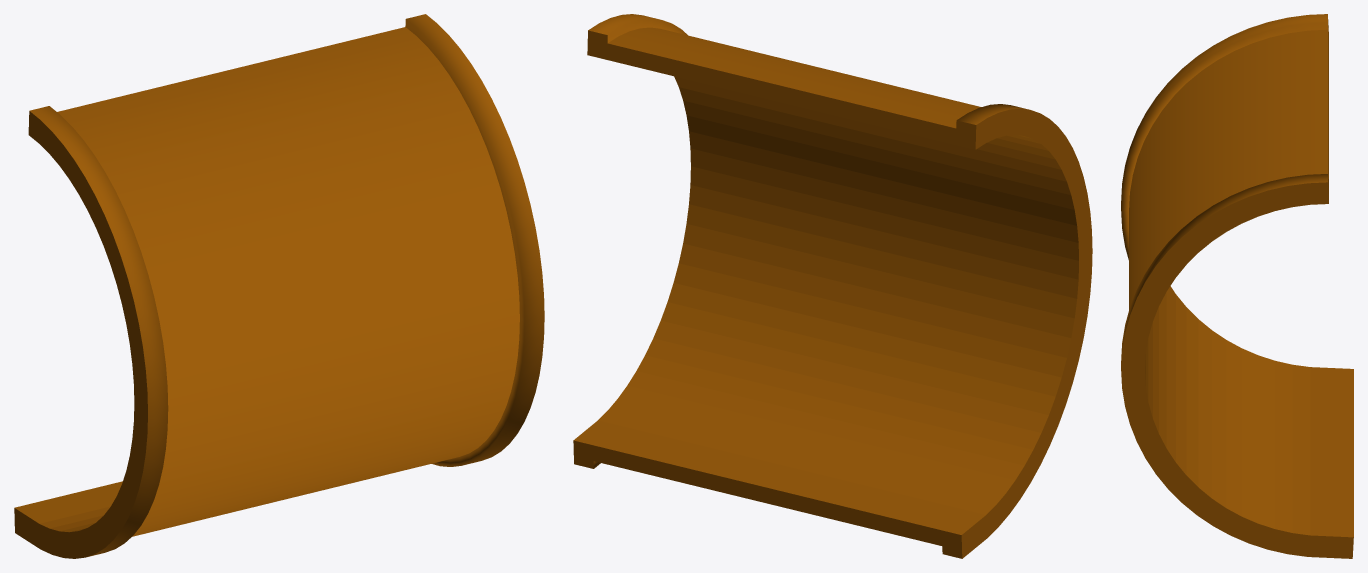
File: pipe_5.glb
3 renders of one model, left to right at view 1: azimuth 30°, elevation 25°; view 2: azimuth 150°, elevation 25°; view 3: azimuth 270°, elevation 25°, orthographic. The views are drawn at different scales.
Parts seen in each view (by area): view 1: Cylinder.008; view 2: Cylinder.008; view 3: Cylinder.008.
Part boxes in pixels (box(x1,y1,x2,y2)): Cylinder.008: box(14, 14, 544, 558); Cylinder.008: box(573, 14, 1092, 558); Cylinder.008: box(1121, 14, 1353, 558).
Bounding box in the file's own units: 2 × 2.09 × 1.17.
